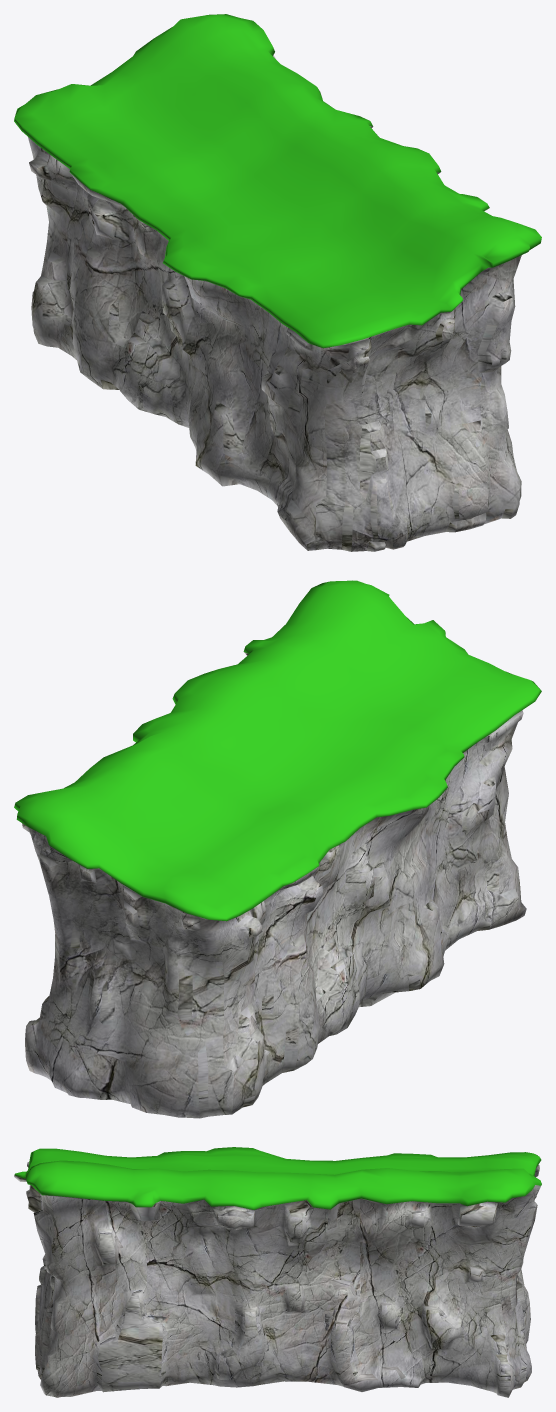
File: SM_RockCliff.FBX
The picture shows the model from 3 angles, top to bottom: view 1: azimuth 30°, elevation 25°; view 2: azimuth 150°, elevation 25°; view 3: azimuth 270°, elevation 25°; orthographic projection. The views are drawn at different scales.
Visible parts, largest first — view 1: Box002; view 2: Box002; view 3: Box002.
Boxes of the visible parts, bbox=[...] form: Box002: bbox=[14, 14, 541, 551]; Box002: bbox=[14, 580, 541, 1118]; Box002: bbox=[14, 1147, 541, 1397].
Size of the model in its own units: 894 by 976 by 2033.
Materials: 2 (1 with a texture image).
